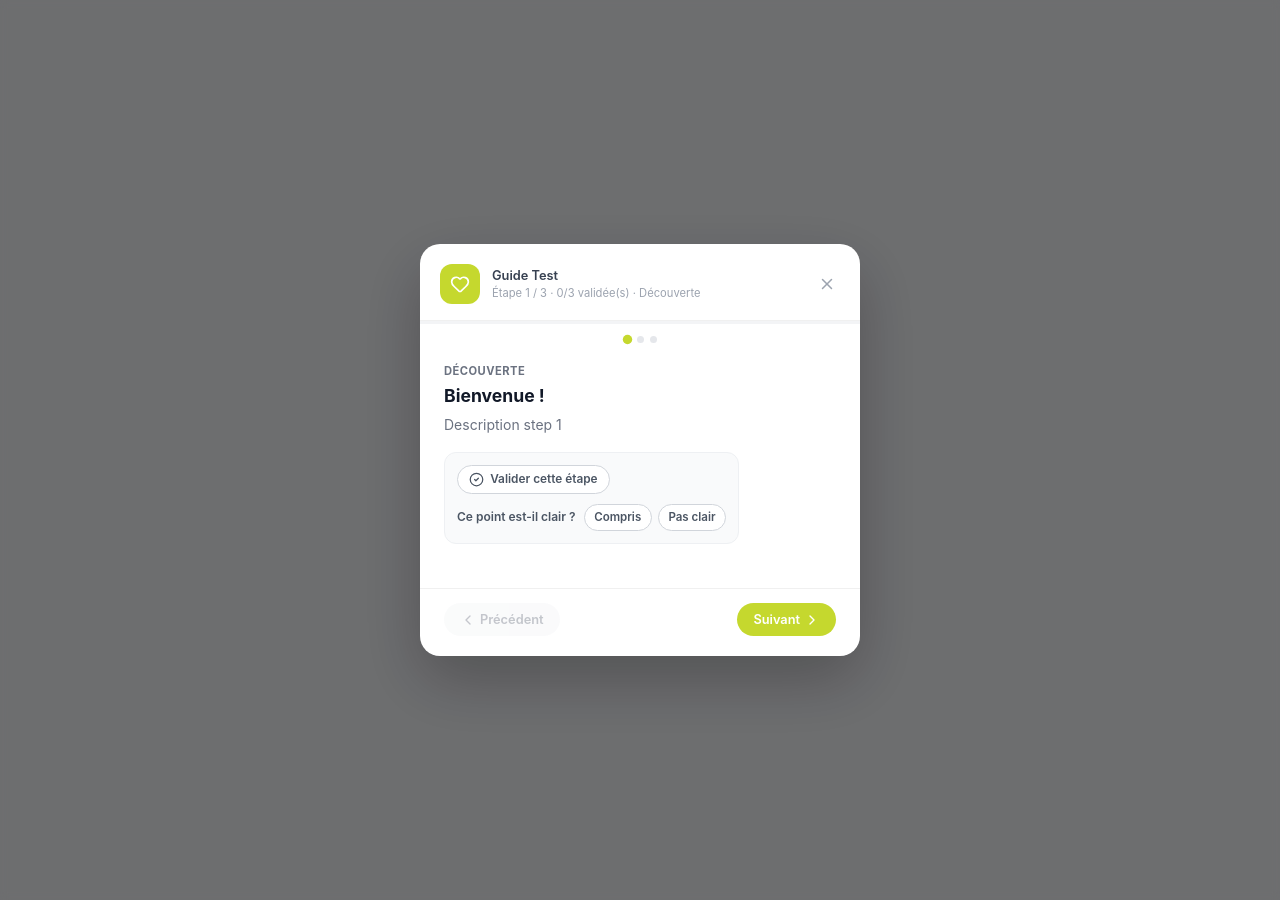
Test case: TutorialGuide.vue › navigates to next step on "Suivant" click
Click the button with class "tutorial-nav--next".
click(787, 620)  # box [737,603,836,636]
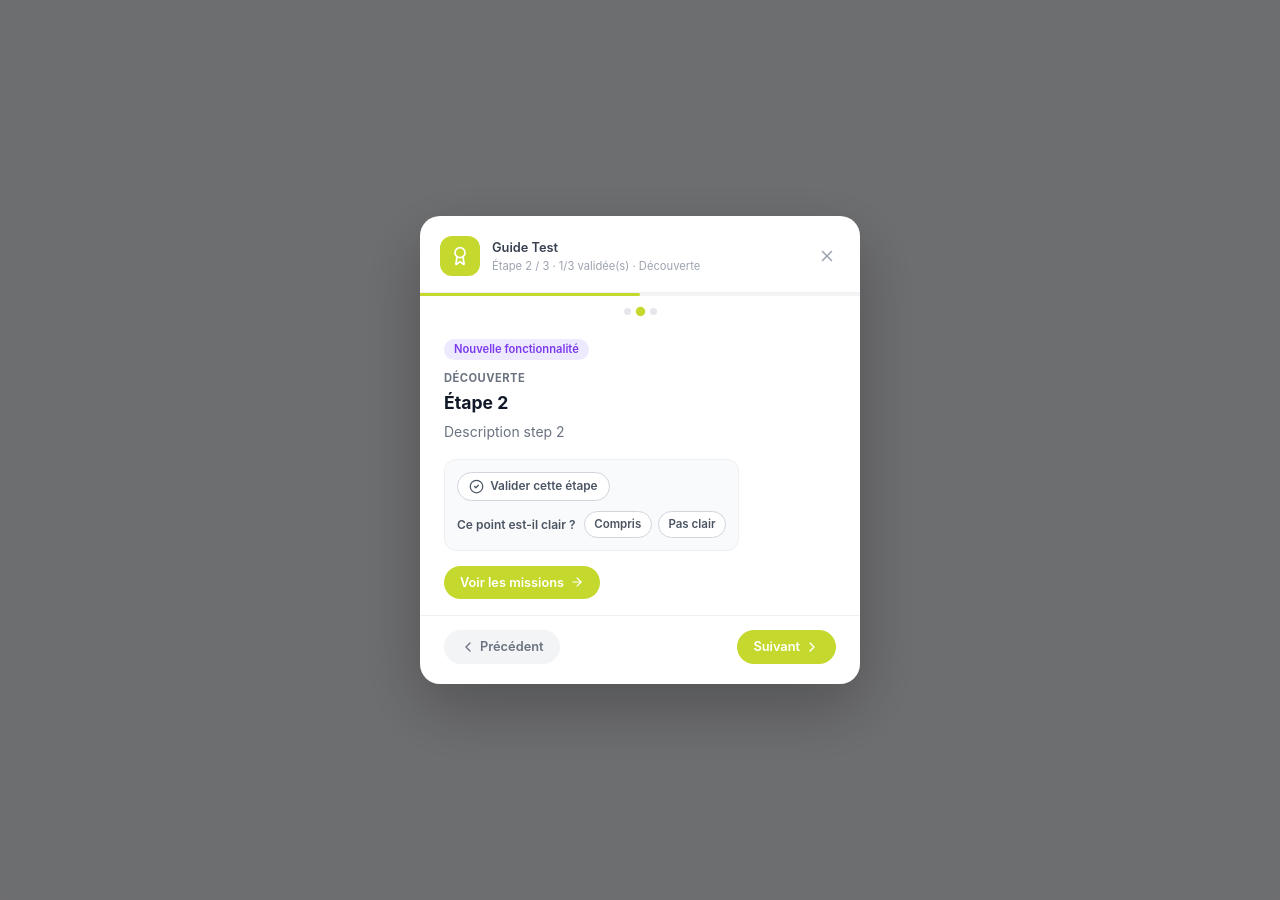
Expected: the text "Étape 2" is shown, [492,258,700,272]
Expected: the text "Description step 2" is shown, [444,423,565,440]
